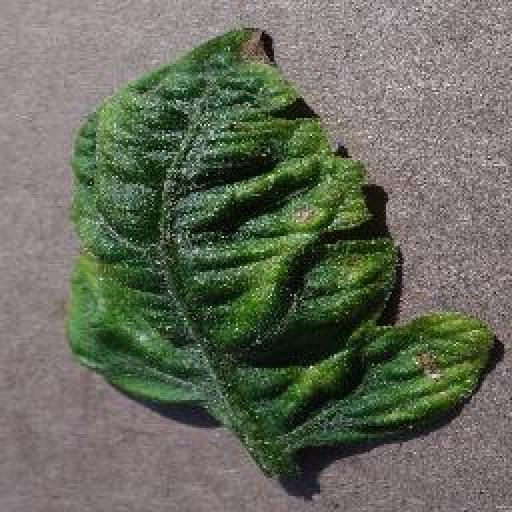Yellow Leaf Curl Virus: (62, 24, 494, 448)
